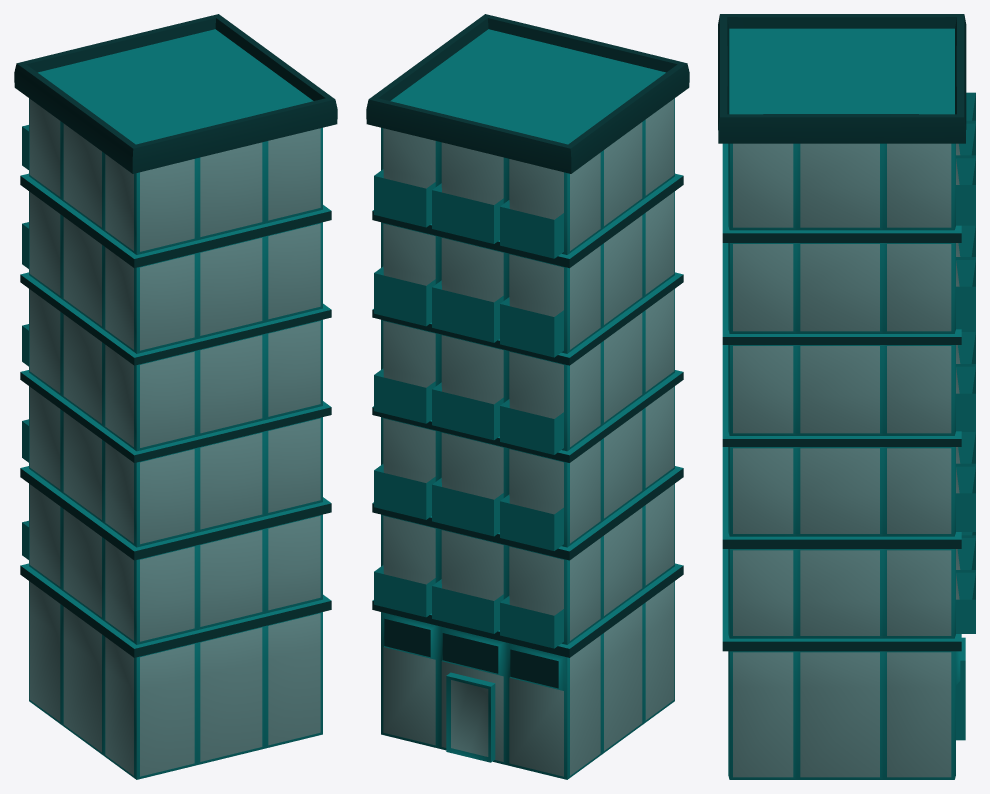
The model's file is smallBuilding_M_v1_athena.FBX.
The picture shows the model from 3 angles, left to right: view 1: azimuth 30°, elevation 25°; view 2: azimuth 150°, elevation 25°; view 3: azimuth 270°, elevation 25°; orthographic projection. The views are drawn at different scales.
Parts seen in each view (by area): view 1: small; view 2: small; view 3: small.
Boxes of the visible parts, box(x1,y1,x2,y2) form: small: box(14, 14, 337, 779); small: box(366, 14, 689, 779); small: box(718, 14, 975, 779).
Bounding box in the file's own units: 1102 × 3268 × 1145.
